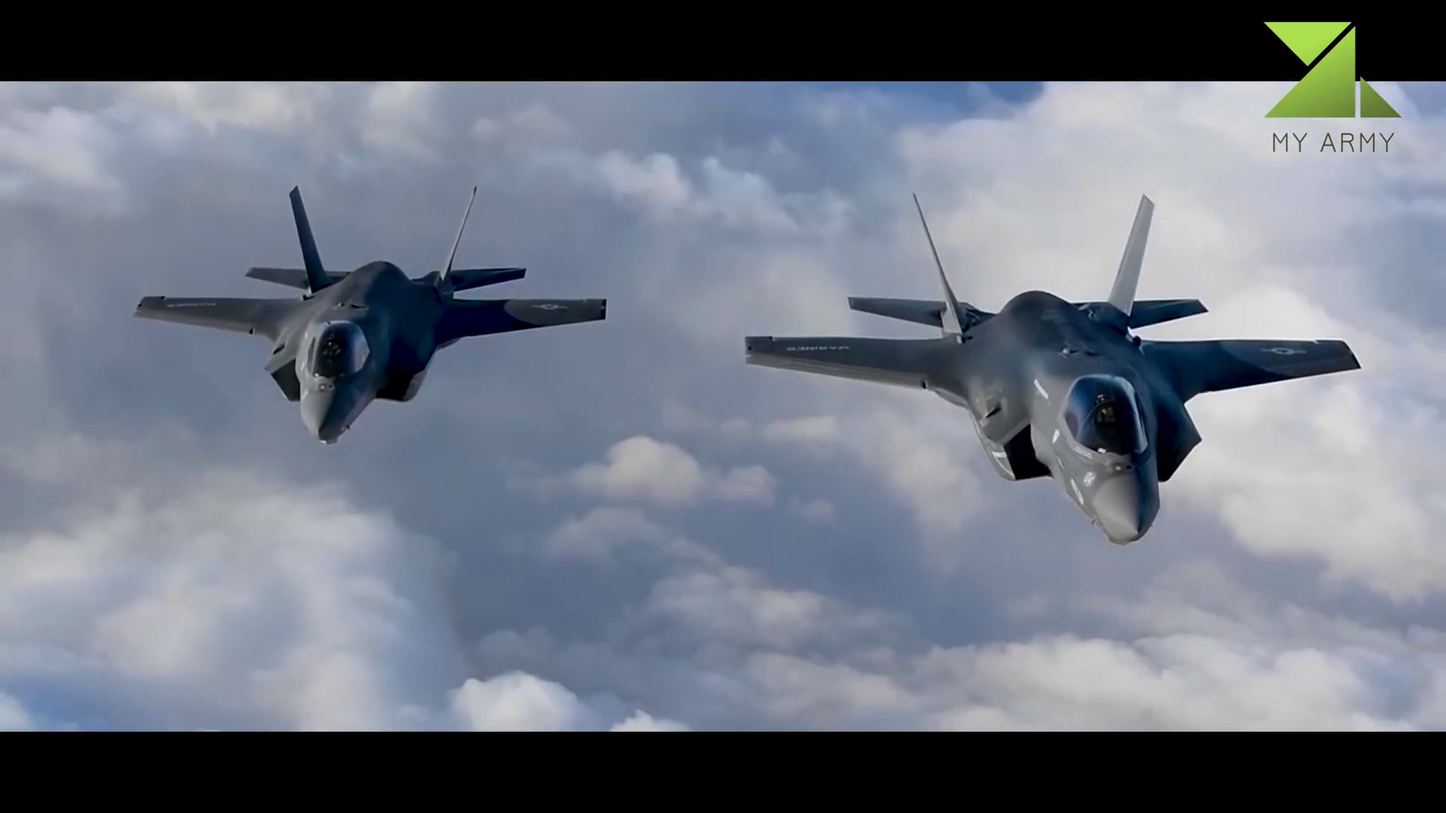F35: (742, 184, 1371, 571), (129, 167, 618, 465)
